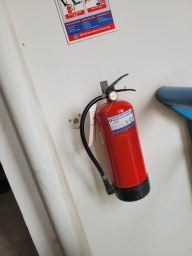fire_extinguisher: (55, 54, 152, 163), (74, 55, 152, 130)
